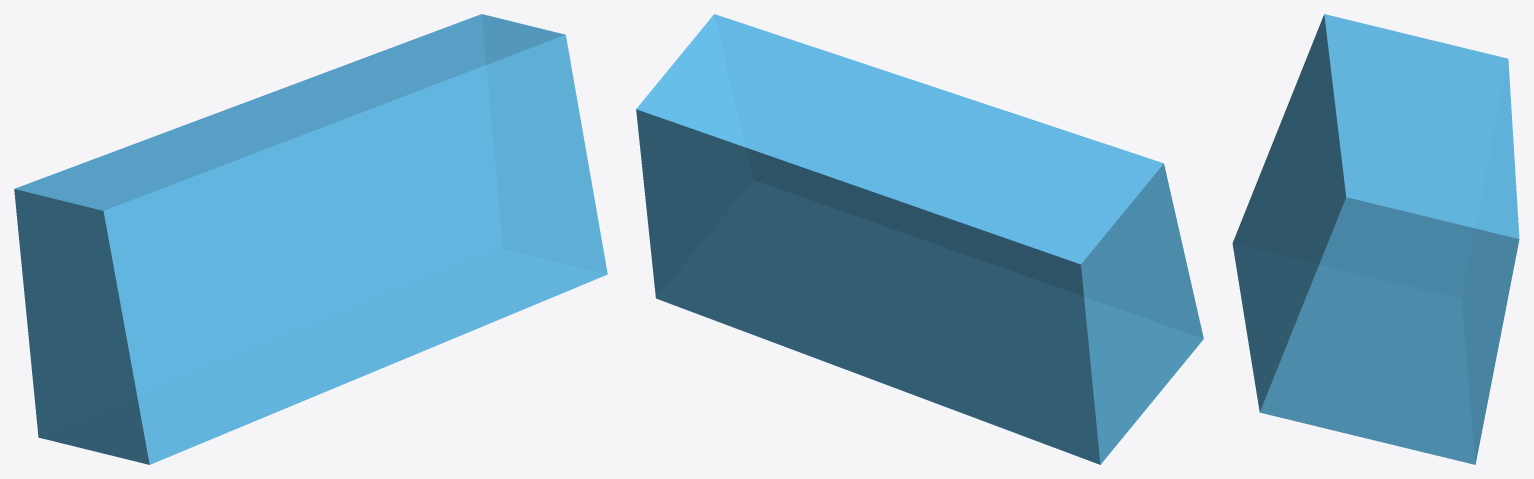
Rendered from Event_420094457_HErechit_23.fbx.
The picture shows the model from 3 angles, left to right: view 1: azimuth 30°, elevation 25°; view 2: azimuth 150°, elevation 25°; view 3: azimuth 270°, elevation 25°; orthographic projection. The views are drawn at different scales.
Visible parts, largest first — view 1: Model; view 2: Model; view 3: Model.
Boxes of the visible parts, left/top/right/bottom form: Model: left=14, top=14, right=607, bottom=464; Model: left=636, top=14, right=1203, bottom=464; Model: left=1232, top=14, right=1519, bottom=464.
Size of the model in its own units: 0.634 by 0.4213 by 0.3234.
